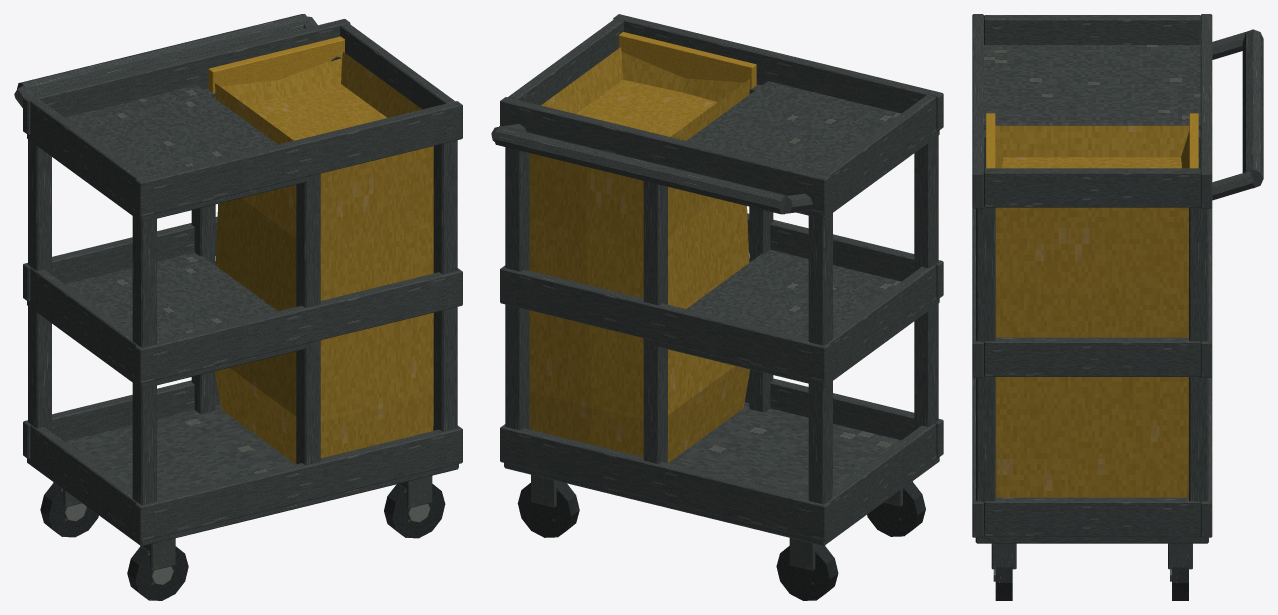
The model's file is janitor_cart.glb.
The picture shows the model from 3 angles, left to right: view 1: azimuth 30°, elevation 25°; view 2: azimuth 150°, elevation 25°; view 3: azimuth 270°, elevation 25°; orthographic projection.
Visible parts, largest first — view 1: janitor_cart; view 2: janitor_cart; view 3: janitor_cart.
Boxes of the visible parts, x1=… form: janitor_cart: x1=14, y1=14, x2=462, y2=600; janitor_cart: x1=491, y1=14, x2=943, y2=600; janitor_cart: x1=972, y1=14, x2=1263, y2=600.
Bounding box in the file's own units: 0.73 × 0.9375 × 0.561.
5 materials, 5 textured.
